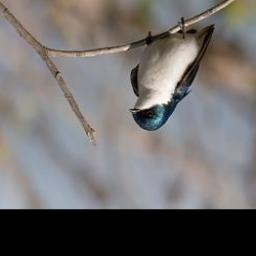Swallow: (130, 16, 216, 133)
